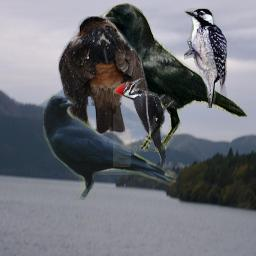Crow: (90, 3, 248, 152), (43, 92, 176, 200)
Swallow: (58, 16, 155, 149)
Woodpecker: (113, 78, 174, 167), (184, 8, 227, 108)
